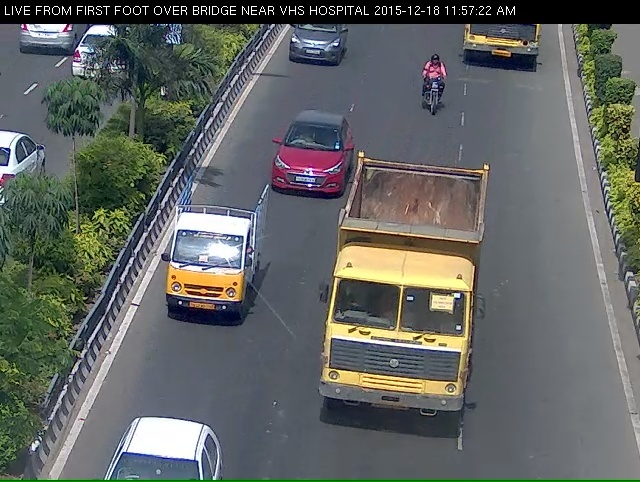Auto: (154, 208, 257, 343)
Bus: (344, 170, 469, 436), (456, 16, 541, 74)
Car: (266, 117, 339, 204), (274, 16, 348, 71)
Person: (421, 58, 453, 122)
